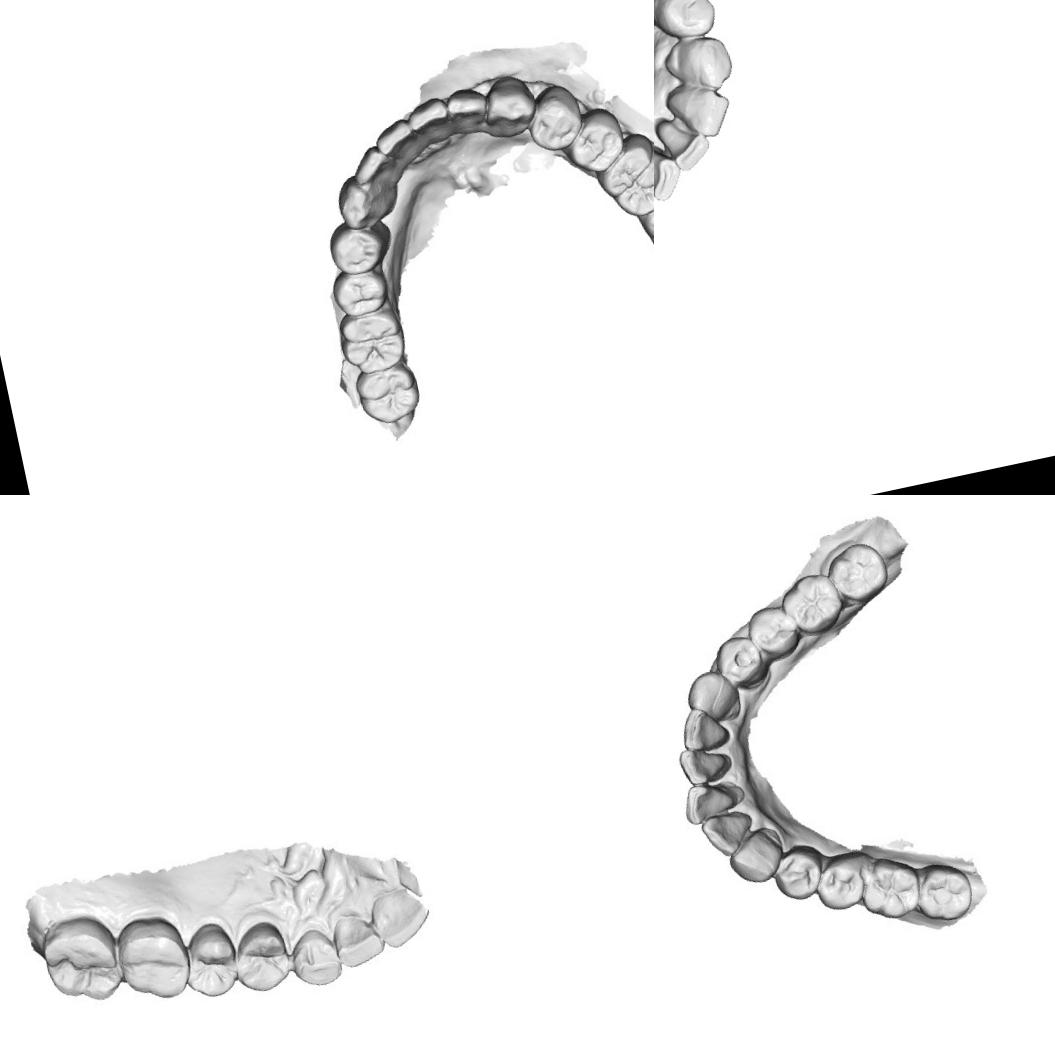canine: (658, 28, 739, 100), (331, 170, 401, 234), (480, 72, 540, 145), (286, 923, 348, 993), (722, 828, 788, 890), (681, 664, 742, 724)
incisor: (661, 76, 737, 146), (369, 884, 437, 954), (654, 108, 715, 176), (329, 905, 387, 972), (678, 775, 744, 829), (442, 82, 495, 143), (698, 808, 756, 860), (675, 702, 731, 754), (674, 740, 729, 790), (347, 142, 403, 190), (654, 133, 687, 205), (374, 115, 420, 164), (408, 96, 452, 146)
molar: (35, 910, 130, 1012), (110, 910, 196, 1008), (590, 131, 654, 225), (334, 306, 412, 378), (853, 851, 926, 925), (775, 568, 849, 638), (352, 362, 427, 431), (824, 538, 894, 608), (910, 859, 978, 928), (635, 176, 654, 263)
premolar: (177, 914, 242, 1006), (227, 918, 295, 999), (560, 103, 630, 179), (324, 214, 396, 278), (523, 88, 586, 154), (744, 598, 807, 664), (328, 262, 398, 321), (808, 851, 870, 916), (710, 630, 770, 694), (768, 841, 826, 907), (654, 0, 721, 47)
